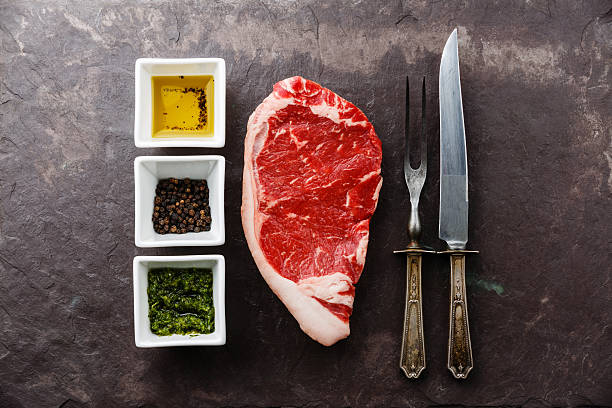knife: (433, 25, 482, 382)
